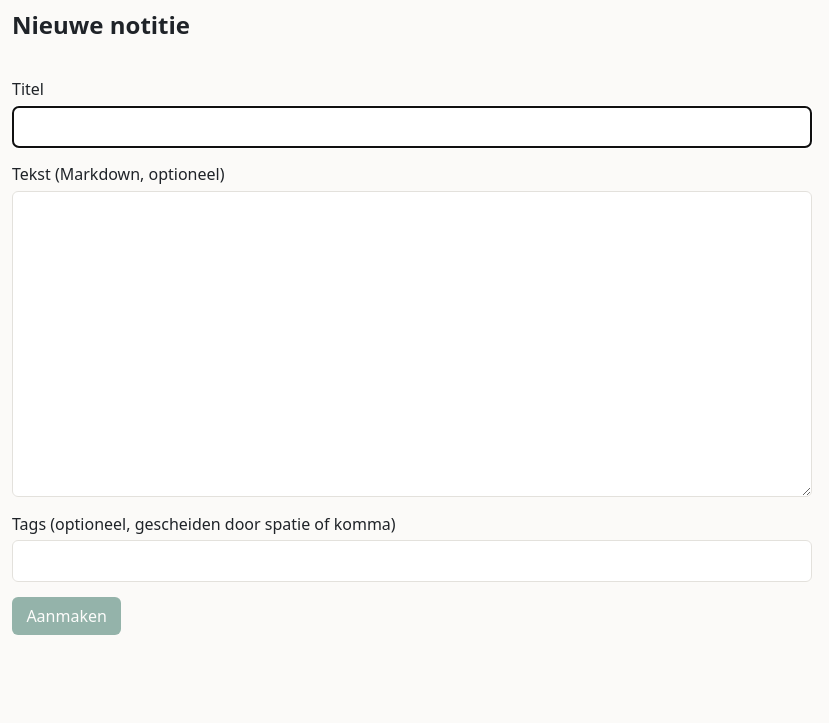
Test: NewNoteForm › shows the server's error and keeps the input
Type "X" into the field labelled "Titel" at (412, 127), box [12,106,812,148]
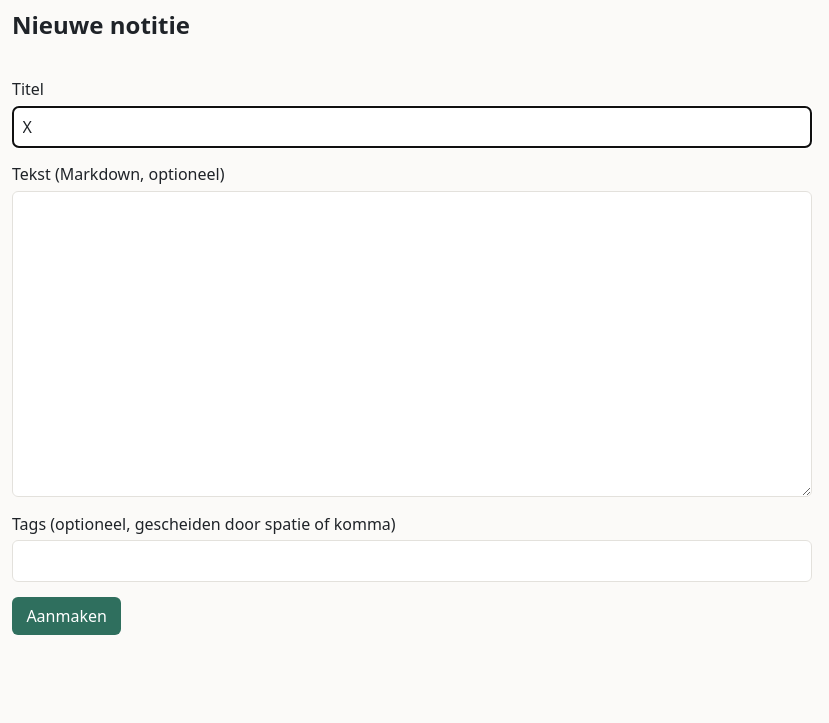
Click the button "Aanmaken" at (67, 616), box [12,597,121,635]
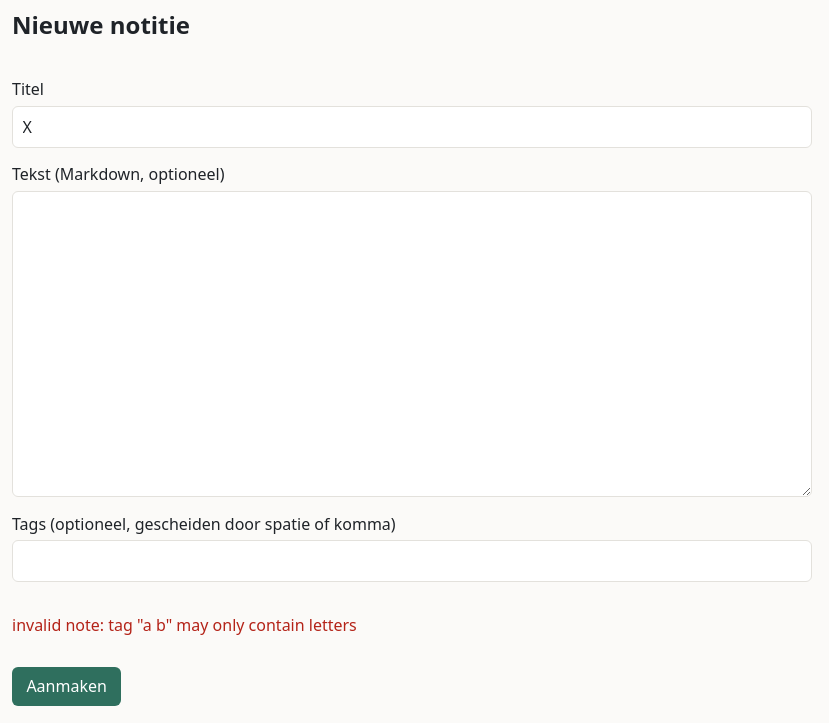
expect the message shows "may only contain letters": met, box [12,614,357,636]
